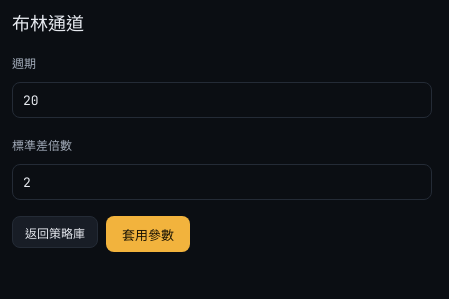
it: StrategyParamForm › 布林通道：標準差倍數不能小於等於 0
Replace the text in the field labelled "標準差倍數" with "0" at (222, 182), box [12,164,432,200]
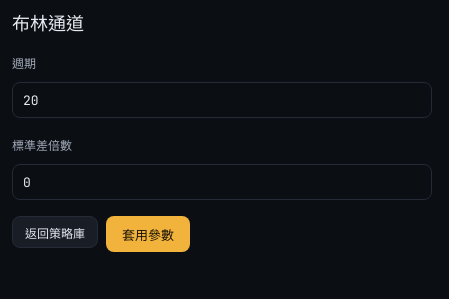
Click the button "套用參數" at (148, 234), box [106,216,190,252]
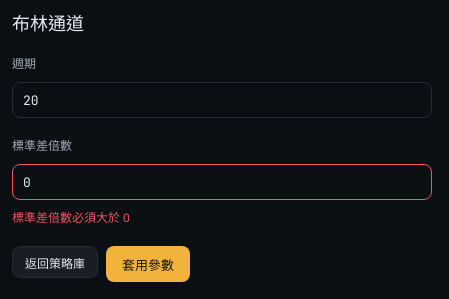
Result: the text "標準差倍數必須大於 0" is shown at [12,210,130,225]
